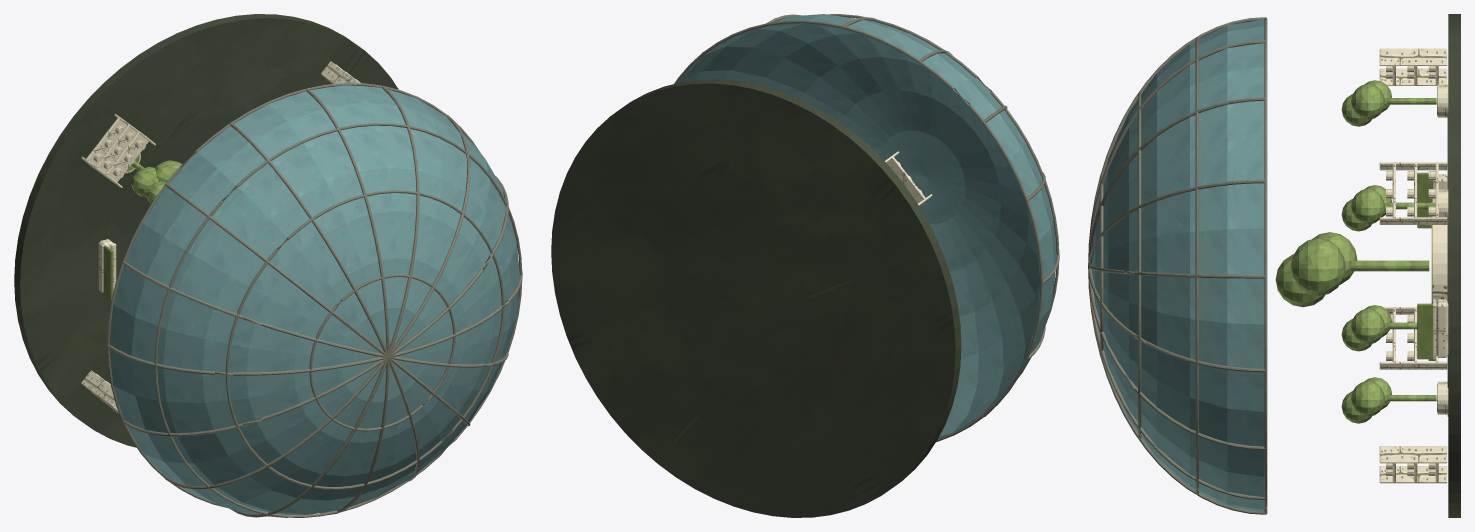
The model's file is ECHO7_09_Habitat_Central.obj.
The picture shows the model from 3 angles, left to right: view 1: azimuth 30°, elevation 25°; view 2: azimuth 150°, elevation 25°; view 3: azimuth 270°, elevation 25°; orthographic projection. The views are drawn at different scales.
Parts seen in each view (by area): view 1: ECHO7_09_Habitat_Central__Suelo_habitat_01, ECHO7_09_Habitat_Central__Aro_cupula_02, ECHO7_09_Habitat_Central__Aro_cupula_03, ECHO7_09_Habitat_Central__Aro_cupula_01, ECHO7_09_Habitat_Central__Aro_cupula_04, ECHO7_09_Habitat_Central__Costilla_cupula_05, ECHO7_09_Habitat_Central__Costilla_cupula_08, ECHO7_09_Habitat_Central__Costilla_cupula_09, ECHO7_09_Habitat_Central__Costilla_cupula_04, ECHO7_09_Habitat_Central__Costilla_cupula_07, ECHO7_09_Habitat_Central__Costilla_cupula_10, ECHO7_09_Habitat_Central__Costilla_cupula_06 (+77 smaller); view 2: ECHO7_09_Habitat_Central__Suelo_habitat_01, ECHO7_09_Habitat_Central__Aro_cupula_01, ECHO7_09_Habitat_Central__Aro_cupula_02; view 3: ECHO7_09_Habitat_Central__Suelo_habitat_01, ECHO7_09_Habitat_Central__Copa_follaje_02, ECHO7_09_Habitat_Central__Aro_cupula_01, ECHO7_09_Habitat_Central__Aro_cupula_02, ECHO7_09_Habitat_Central__Aro_cupula_03, ECHO7_09_Habitat_Central__Montante_hidroponia_03, ECHO7_09_Habitat_Central__Montante_hidroponia_08, ECHO7_09_Habitat_Central__Jardinera_central_01, ECHO7_09_Habitat_Central__Costilla_cupula_05, ECHO7_09_Habitat_Central__Costilla_cupula_15, ECHO7_09_Habitat_Central__Costilla_cupula_16, ECHO7_09_Habitat_Central__Copa_follaje_03 (+85 smaller).
Part boxes in pixels (left/top/right/bottom): ECHO7_09_Habitat_Central__Suelo_habitat_01: left=14, top=14, right=398, bottom=447; ECHO7_09_Habitat_Central__Aro_cupula_02: left=154, top=123, right=522, bottom=517; ECHO7_09_Habitat_Central__Aro_cupula_03: left=225, top=190, right=504, bottom=489; ECHO7_09_Habitat_Central__Aro_cupula_01: left=107, top=83, right=480, bottom=507; ECHO7_09_Habitat_Central__Aro_cupula_04: left=309, top=274, right=455, bottom=431; ECHO7_09_Habitat_Central__Costilla_cupula_05: left=306, top=88, right=389, bottom=356; ECHO7_09_Habitat_Central__Costilla_cupula_08: left=122, top=261, right=388, bottom=357; ECHO7_09_Habitat_Central__Costilla_cupula_09: left=107, top=344, right=387, bottom=375; ECHO7_09_Habitat_Central__Costilla_cupula_04: left=382, top=85, right=419, bottom=356; ECHO7_09_Habitat_Central__Costilla_cupula_07: left=165, top=183, right=388, bottom=356; ECHO7_09_Habitat_Central__Costilla_cupula_10: left=122, top=358, right=387, bottom=436; ECHO7_09_Habitat_Central__Costilla_cupula_06: left=229, top=122, right=388, bottom=356; ECHO7_09_Habitat_Central__Suelo_habitat_01: left=551, top=79, right=961, bottom=517; ECHO7_09_Habitat_Central__Aro_cupula_01: left=674, top=20, right=1043, bottom=441; ECHO7_09_Habitat_Central__Aro_cupula_02: left=827, top=14, right=1059, bottom=323; ECHO7_09_Habitat_Central__Suelo_habitat_01: left=1448, top=14, right=1460, bottom=517; ECHO7_09_Habitat_Central__Copa_follaje_02: left=1291, top=238, right=1345, bottom=295; ECHO7_09_Habitat_Central__Aro_cupula_01: left=1264, top=17, right=1267, bottom=514; ECHO7_09_Habitat_Central__Aro_cupula_02: left=1195, top=37, right=1198, bottom=494; ECHO7_09_Habitat_Central__Aro_cupula_03: left=1138, top=92, right=1141, bottom=439; ECHO7_09_Habitat_Central__Montante_hidroponia_03: left=1379, top=48, right=1447, bottom=65; ECHO7_09_Habitat_Central__Montante_hidroponia_08: left=1379, top=446, right=1447, bottom=463; ECHO7_09_Habitat_Central__Jardinera_central_01: left=1432, top=198, right=1447, bottom=300; ECHO7_09_Habitat_Central__Costilla_cupula_05: left=1088, top=40, right=1265, bottom=263; ECHO7_09_Habitat_Central__Costilla_cupula_15: left=1088, top=268, right=1265, bottom=499; ECHO7_09_Habitat_Central__Costilla_cupula_16: left=1088, top=267, right=1265, bottom=449; ECHO7_09_Habitat_Central__Copa_follaje_03: left=1275, top=254, right=1325, bottom=307.
Bounding box in the file's own units: 22.44 × 22.44 × 16.58.
6 materials, 6 textured.
